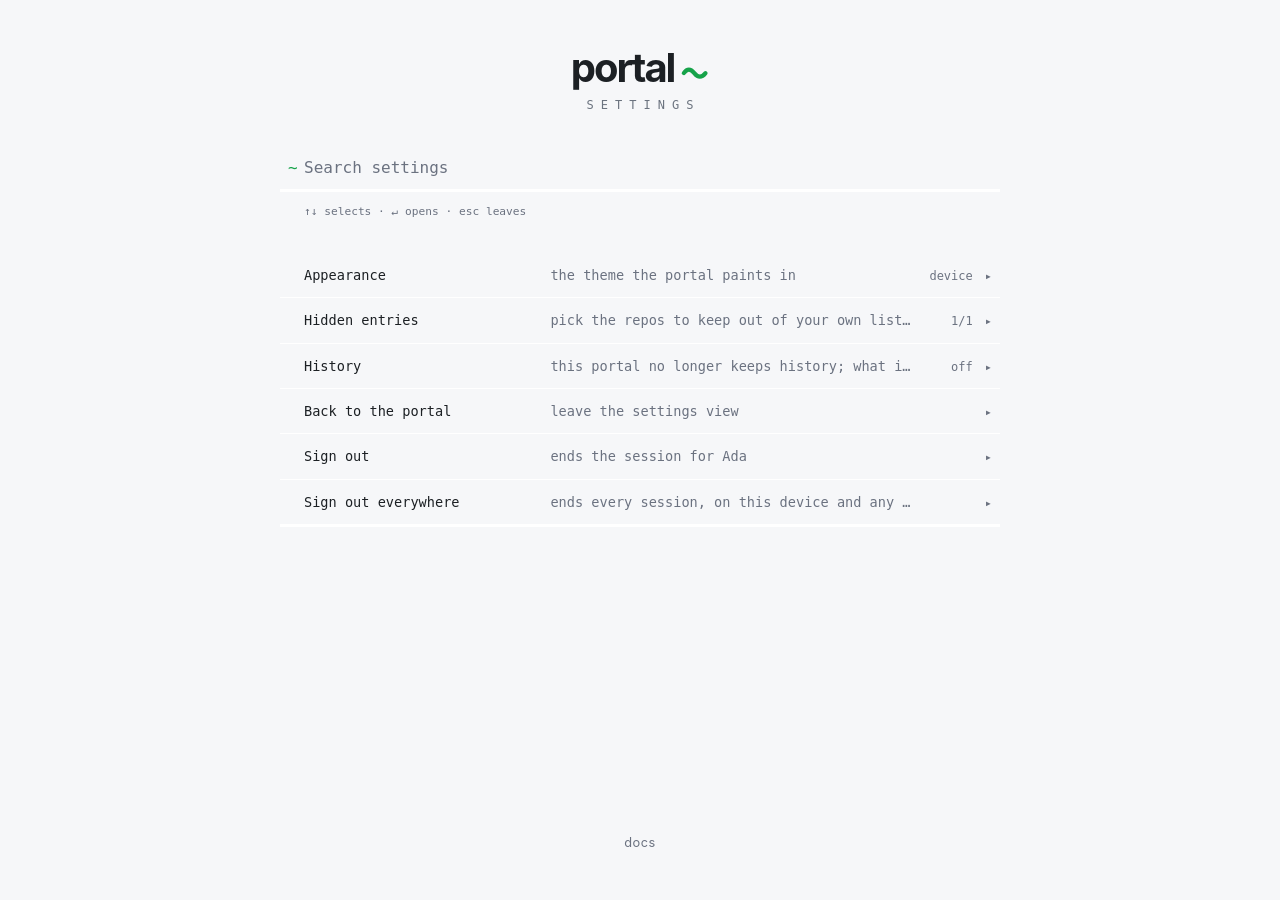
Test: the history section › lists only what is kept, and the way to forget it, once the instance stops offering history
The image size is (1280, 900).
Expected: the list item "Appearance the theme the portal paints in device ▸" is shown, top-left (304, 267), bottom-right (992, 283)
Click the list item that starts with "History".
click(640, 365)  # box top-left (280, 343), bottom-right (1000, 388)
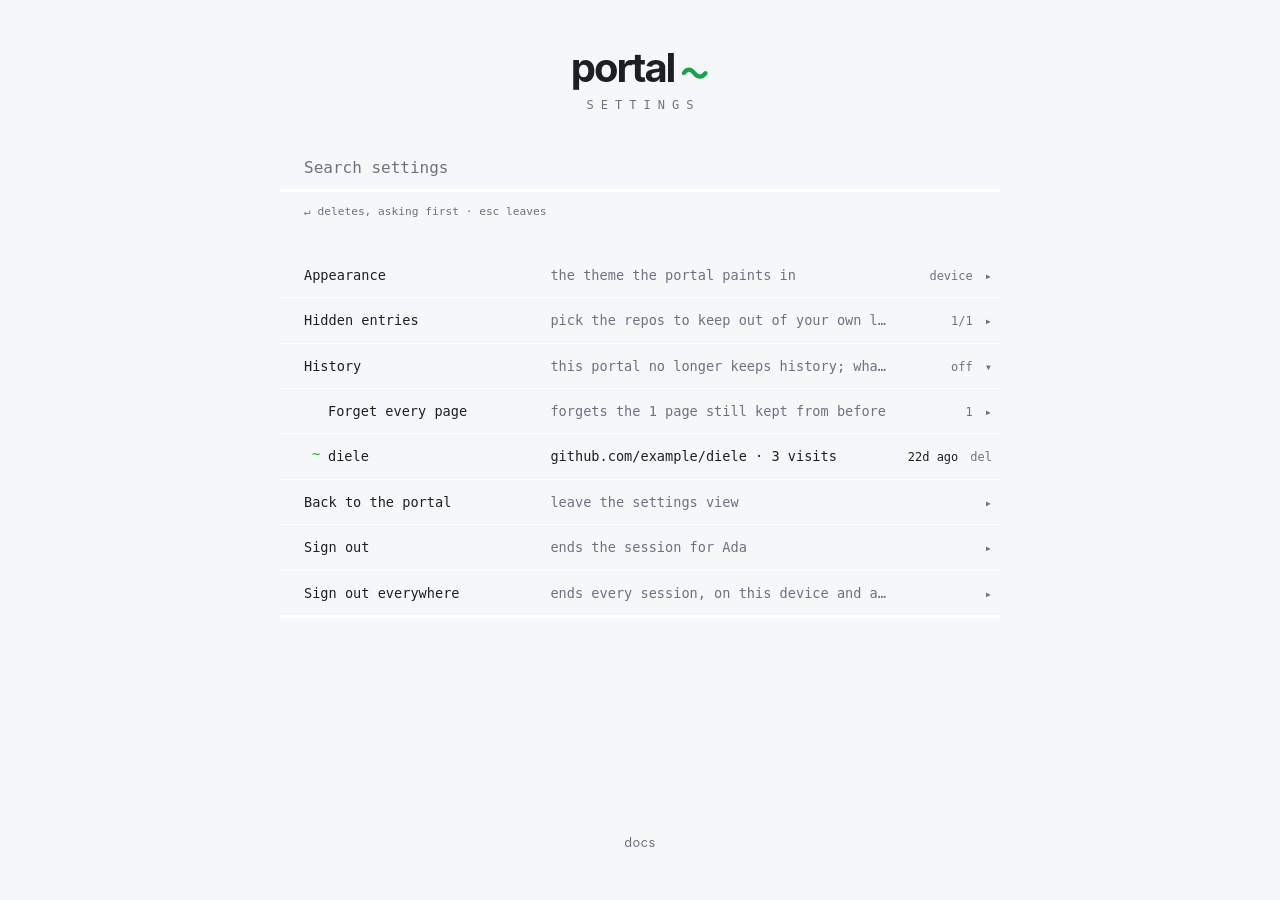
Expected: the text "no longer keeps history" is shown, top-left (550, 358), bottom-right (1230, 374)
Expected: the number of "SettingsItemRow" components is 1
Expected: the list item that starts with "Forget every page" is shown, top-left (280, 388), bottom-right (1000, 433)
Press Enter in the list item "diele github.com/example/diele · 3 visits 22d ago del", box top-left (280, 433), bottom-right (1000, 479)
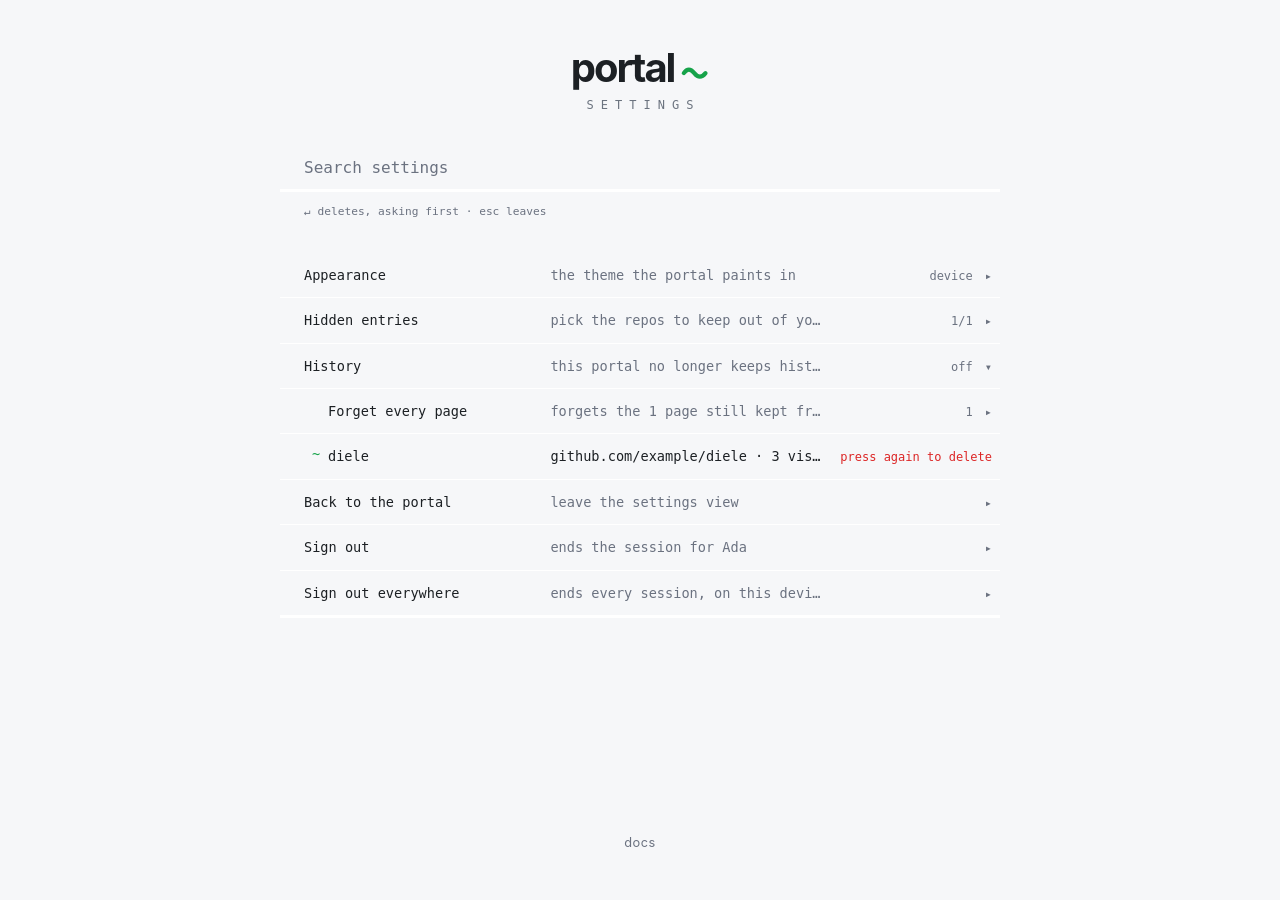
Press Enter in the list item with aria-label "diele, github.com/example/diele · 3 visits", box top-left (280, 433), bottom-right (1000, 479)
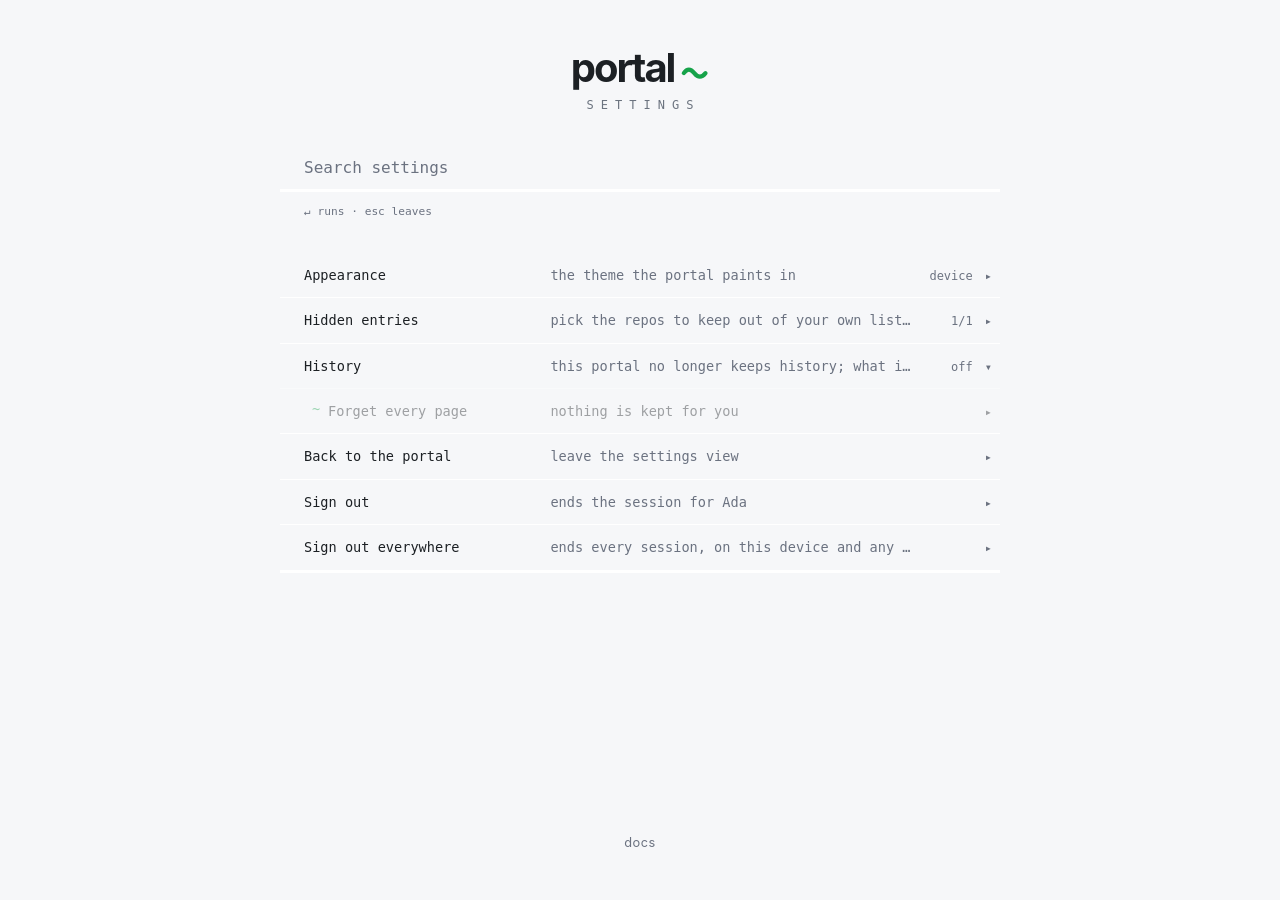
Expected: the text "nothing is kept for you" is shown, top-left (550, 403), bottom-right (739, 419)
